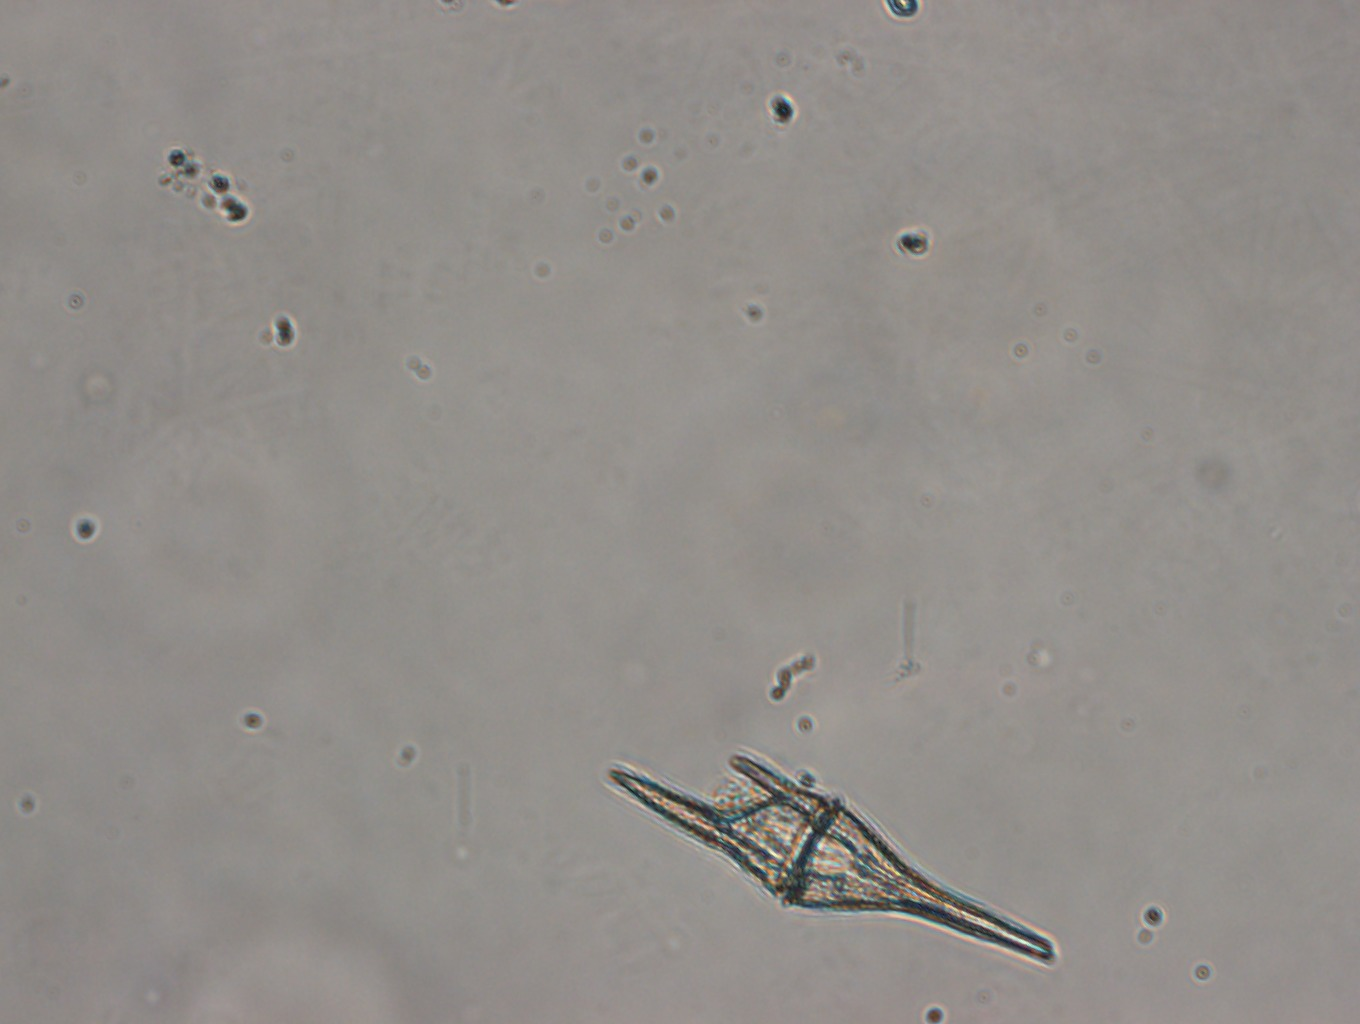ceratium furca: (604, 742, 1059, 962)
